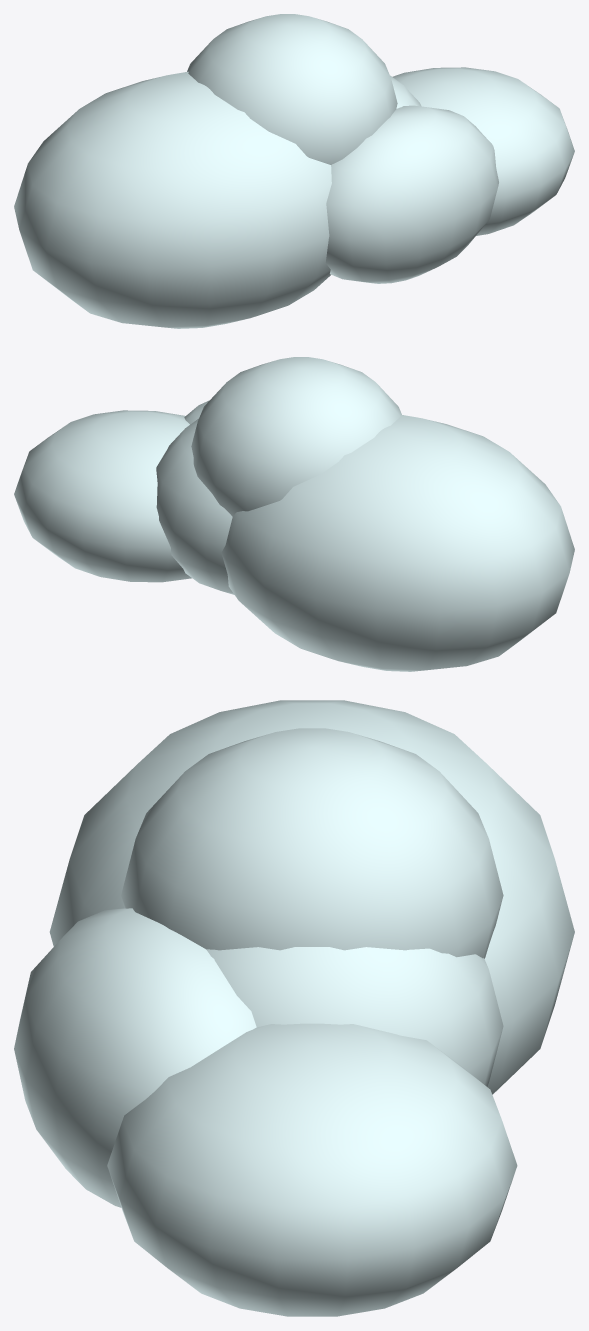
File: Cloud A.fbx
The picture shows the model from 3 angles, top to bottom: view 1: azimuth 30°, elevation 25°; view 2: azimuth 150°, elevation 25°; view 3: azimuth 270°, elevation 25°; orthographic projection. The views are drawn at different scales.
Parts seen in each view (by area): view 1: Cloud A; view 2: Cloud A; view 3: Cloud A.
Part boxes in pixels (x1,y1,x2,y2): Cloud A: [14, 14, 574, 328]; Cloud A: [14, 357, 574, 671]; Cloud A: [14, 700, 574, 1316].
Size of the model in its own units: 393 by 188 by 212.
